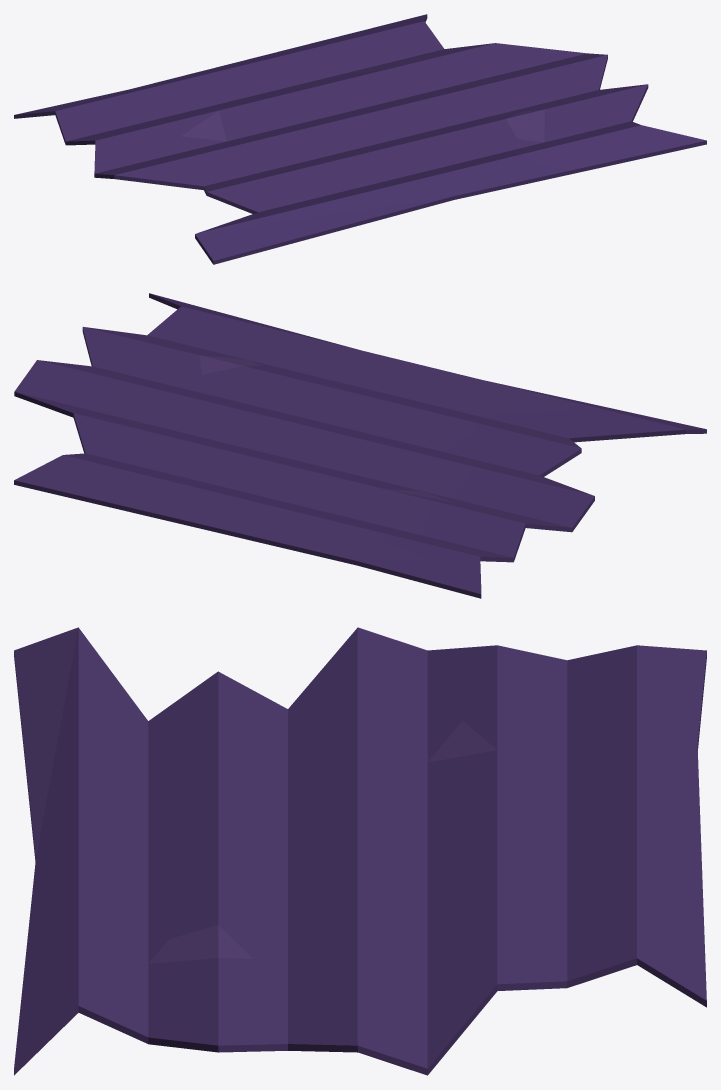
Rendered from SheetMetal_D_2.fbx.
The picture shows the model from 3 angles, top to bottom: view 1: azimuth 30°, elevation 25°; view 2: azimuth 150°, elevation 25°; view 3: azimuth 270°, elevation 25°; orthographic projection. The views are drawn at different scales.
Visible parts, largest first — view 1: SheetMetal_D_2; view 2: SheetMetal_D_2; view 3: SheetMetal_D_2.
Boxes of the visible parts, x1,y1,x2,y2 form: SheetMetal_D_2: (14, 14, 706, 264); SheetMetal_D_2: (14, 293, 706, 598); SheetMetal_D_2: (14, 627, 706, 1075).
Size of the model in its own units: 137 by 4.58 by 96.05.
